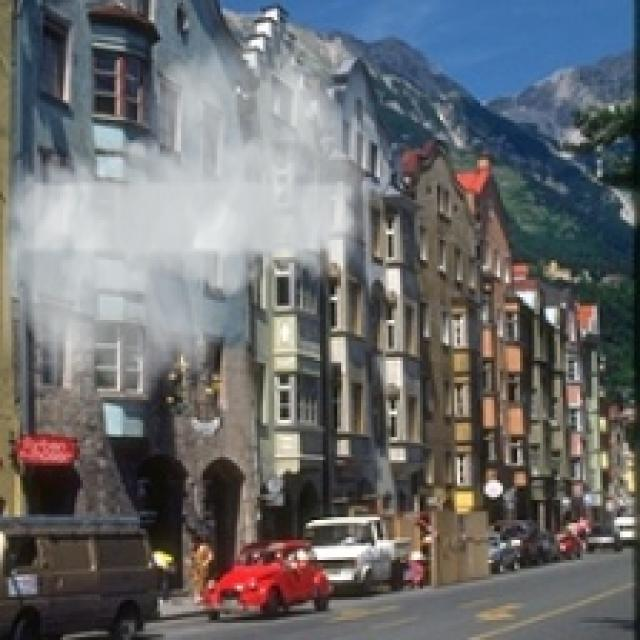smoke: (3, 23, 366, 411)
